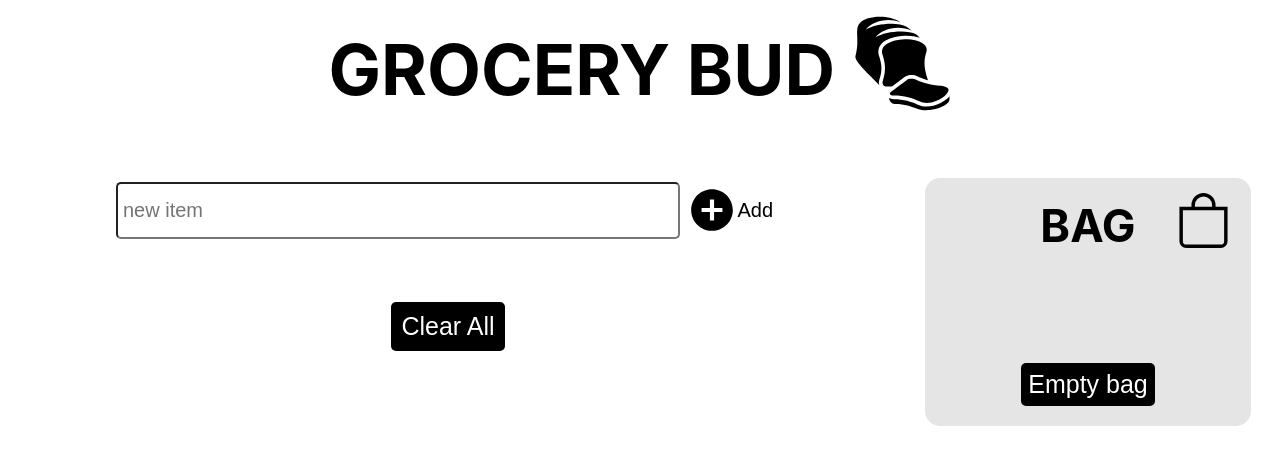
Test case: when list has only one item: › on edited item if user clicks OK button  the item new value is saved and shows a div not an input
Type "1 package of toilet paper" into the field with placeholder "new item" at (398, 210), box [116,182,680,238]
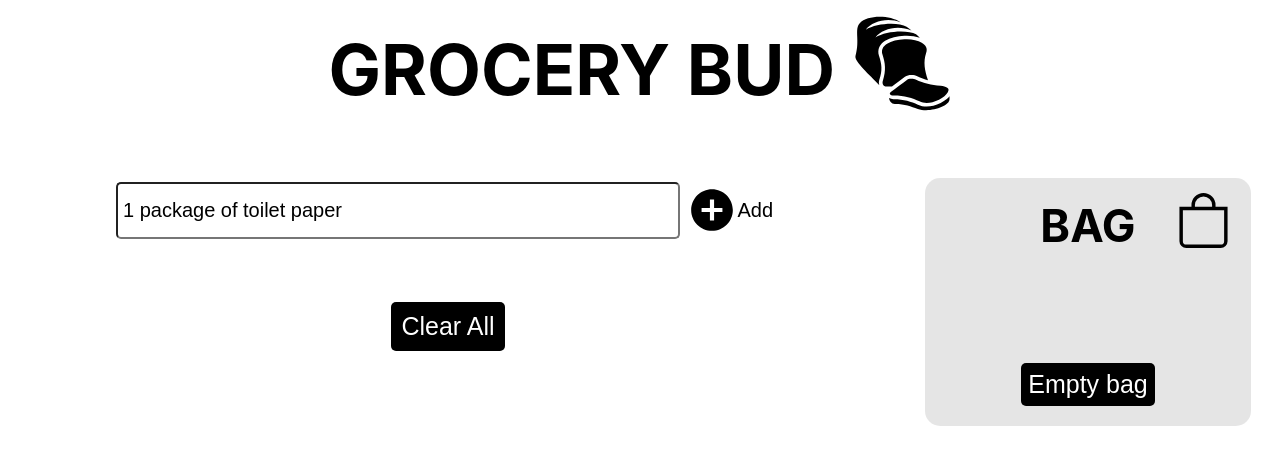
Click the button "Add" at (730, 210), box [680,178,780,242]
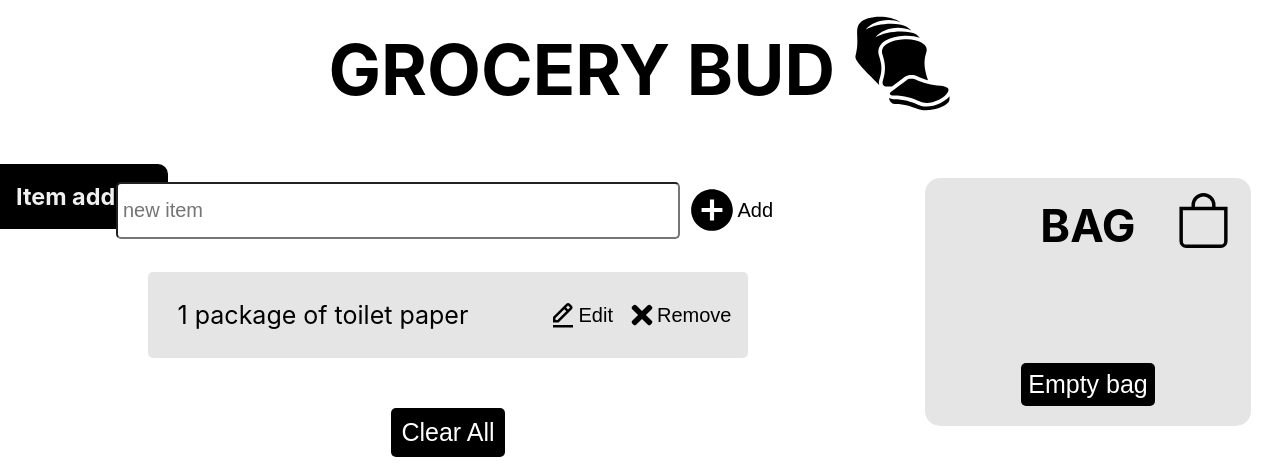
Click the button "Edit" at (581, 315), box [542,293,620,337]
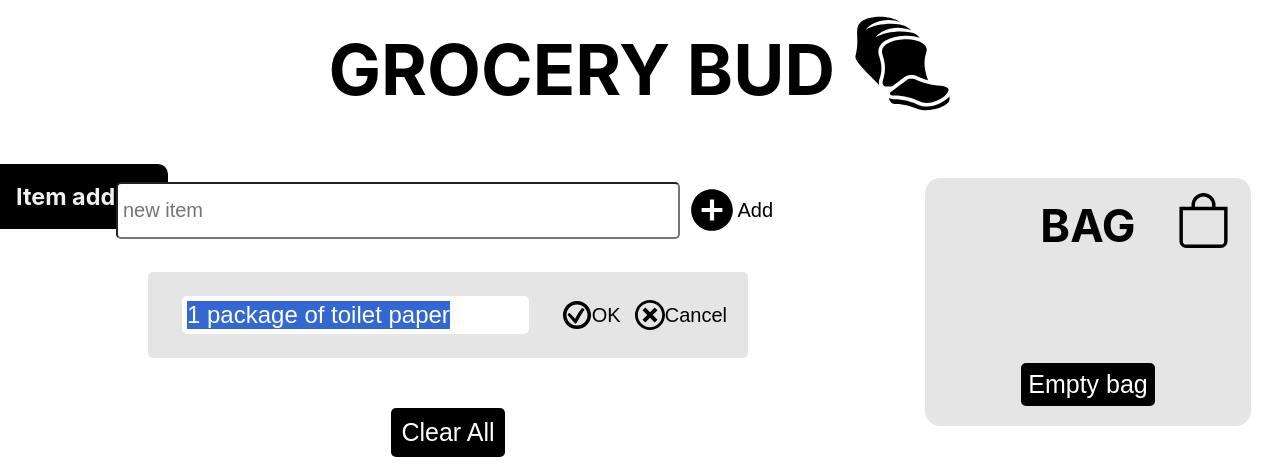
Type "a new lamborghini" into the 2nd field at (355, 315), box [182,296,529,334]
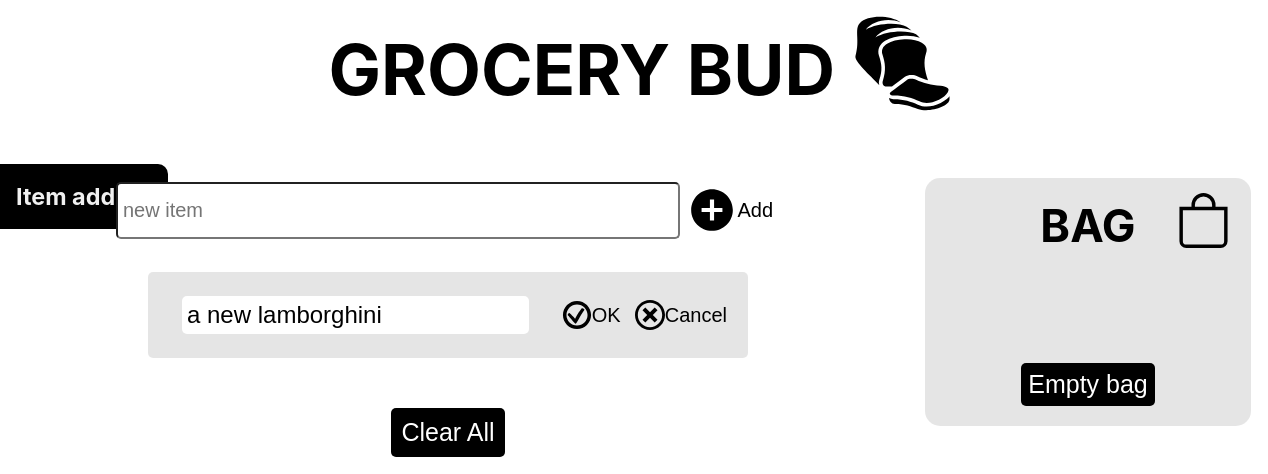
Click the button "OK" at (591, 315), box [555,293,628,337]
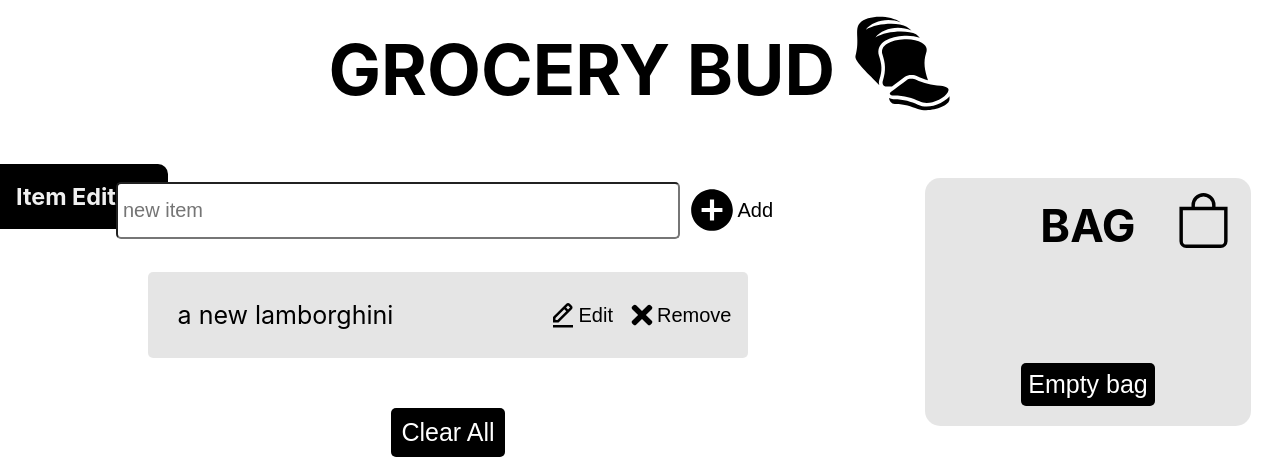
expect the number of fields is 1: met, box [116,182,680,238]
expect the text "a new lamborghini" is shown: met, box [178,300,393,330]
